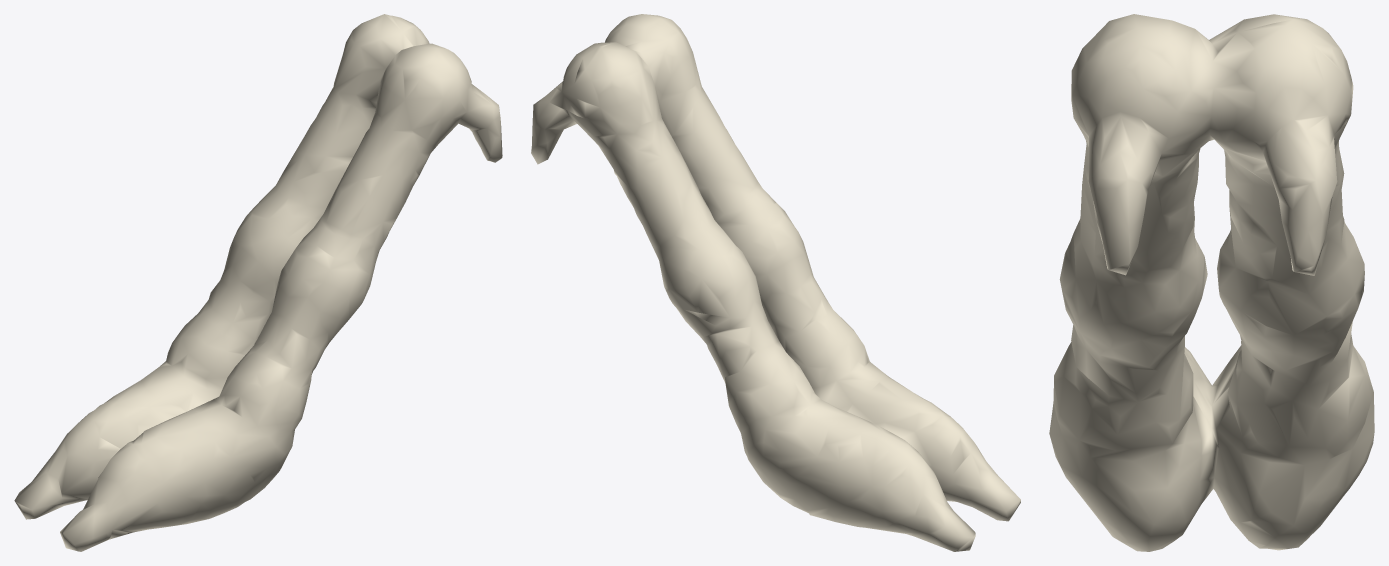
The model's file is hindfoot_l.glb.
3 views of the same model, side by side, from view 1: azimuth 30°, elevation 25°; view 2: azimuth 150°, elevation 25°; view 3: azimuth 270°, elevation 25° (orthographic). The views are drawn at different scales.
Parts seen in each view (by area): view 1: geometry_0; view 2: geometry_0; view 3: geometry_0.
Part boxes in pixels (left/top/right/bottom): geometry_0: left=14, top=14, right=502, bottom=551; geometry_0: left=531, top=14, right=1020, bottom=551; geometry_0: left=1049, top=14, right=1374, bottom=551.
Size of the model in its own units: 0.3608 by 0.3307 by 0.1396.
